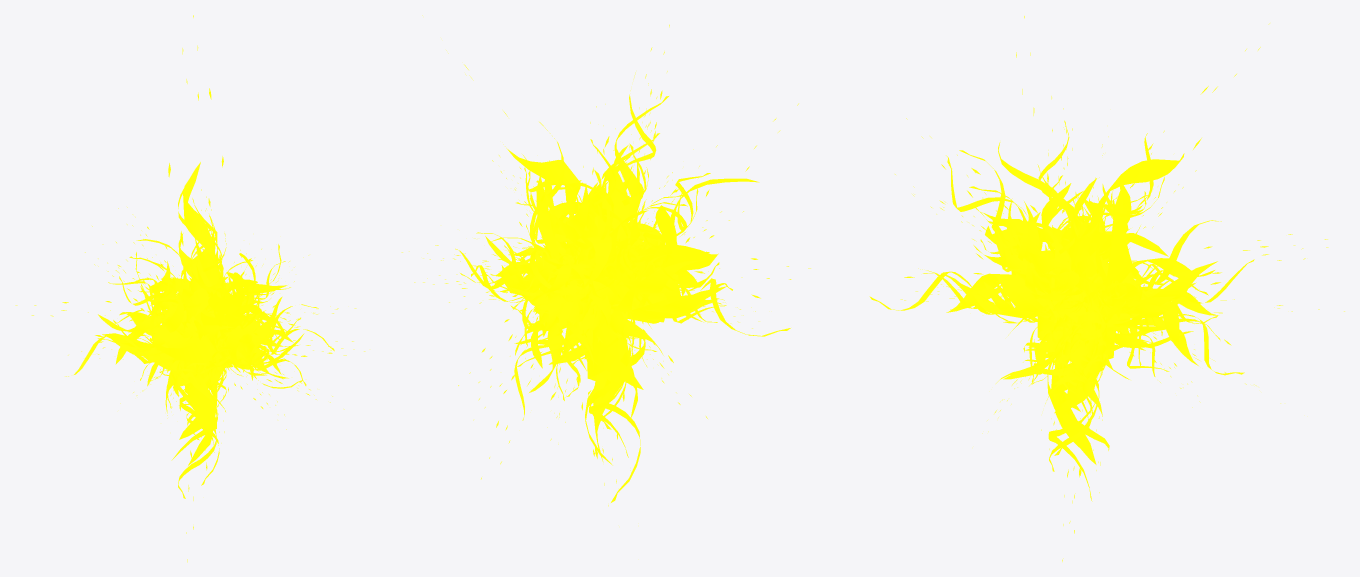
File: fireball.glb
3 views of the same model, side by side, from view 1: azimuth 30°, elevation 25°; view 2: azimuth 150°, elevation 25°; view 3: azimuth 270°, elevation 25° (orthographic). The views are drawn at different scales.
Parts seen in each view (by area): view 1: Cylinder.020 (×5), Cylinder.017 (×3), Cylinder.015 (×3), Cylinder.016 (×2), Cylinder.014, Cylinder.021; view 2: Cylinder.020 (×8), Cylinder.015 (×4), Cylinder.017 (×4), Cylinder.021 (×6), Cylinder.014 (×5), Cylinder.016 (×2); view 3: Cylinder.020 (×5), Cylinder.017 (×4), Cylinder.021 (×4), Cylinder.015 (×3), Cylinder.014, Cylinder.016.
Part boxes in pixels (<box>): Cylinder.020 (×5): <box>65,198,302,388</box>; Cylinder.017 (×3): <box>173,169,257,498</box>; Cylinder.015 (×3): <box>92,208,218,562</box>; Cylinder.016 (×2): <box>121,223,272,402</box>; Cylinder.014: <box>168,15,223,277</box>; Cylinder.021: <box>186,386,215,465</box>; Cylinder.020 (×8): <box>514,72,790,457</box>; Cylinder.015 (×4): <box>529,103,798,470</box>; Cylinder.017 (×4): <box>510,96,668,502</box>; Cylinder.021 (×6): <box>485,160,726,462</box>; Cylinder.014 (×5): <box>422,15,810,479</box>; Cylinder.016 (×2): <box>524,176,691,323</box>; Cylinder.020 (×5): <box>869,120,1244,471</box>; Cylinder.017 (×4): <box>959,133,1153,501</box>; Cylinder.021 (×4): <box>962,178,1217,464</box>; Cylinder.015 (×3): <box>998,16,1327,561</box>; Cylinder.014: <box>1075,23,1269,251</box>; Cylinder.016: <box>1008,200,1132,335</box>.
Size of the model in its own units: 27.91 by 37.32 by 28.69.
